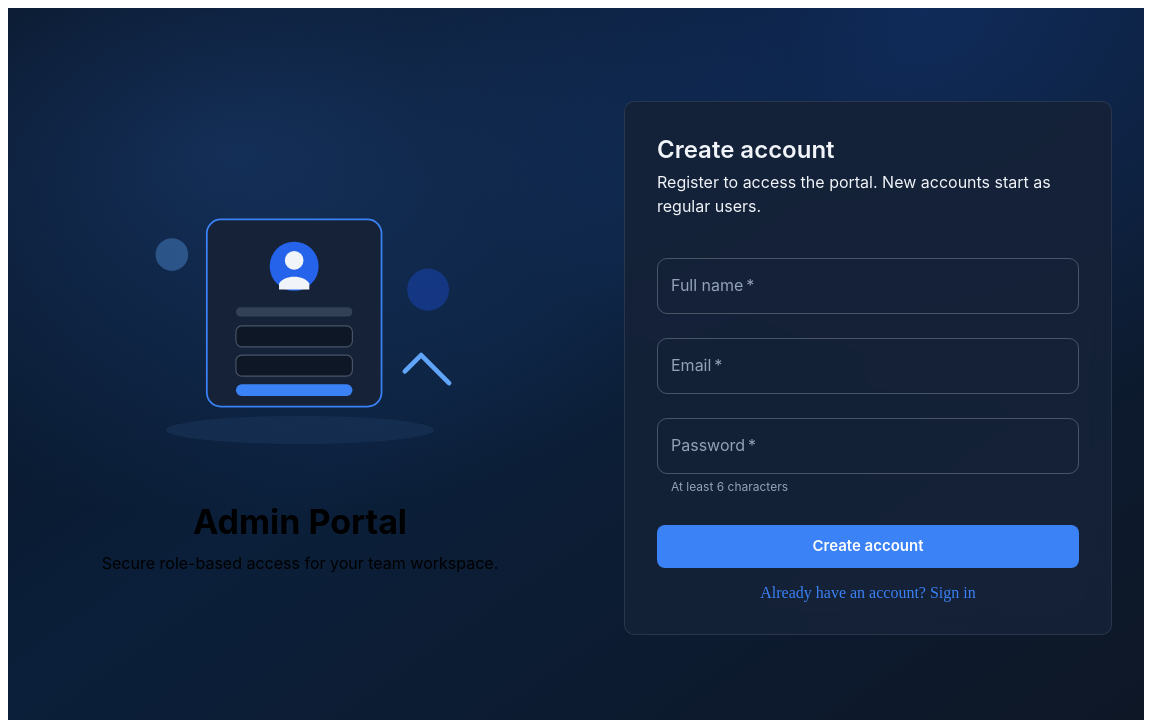
Test: RegisterPage › requires a password of at least 6 characters
Type "Ada Lovelace" into the field labelled "Full name *" at (868, 286), box [657,258,1079,314]
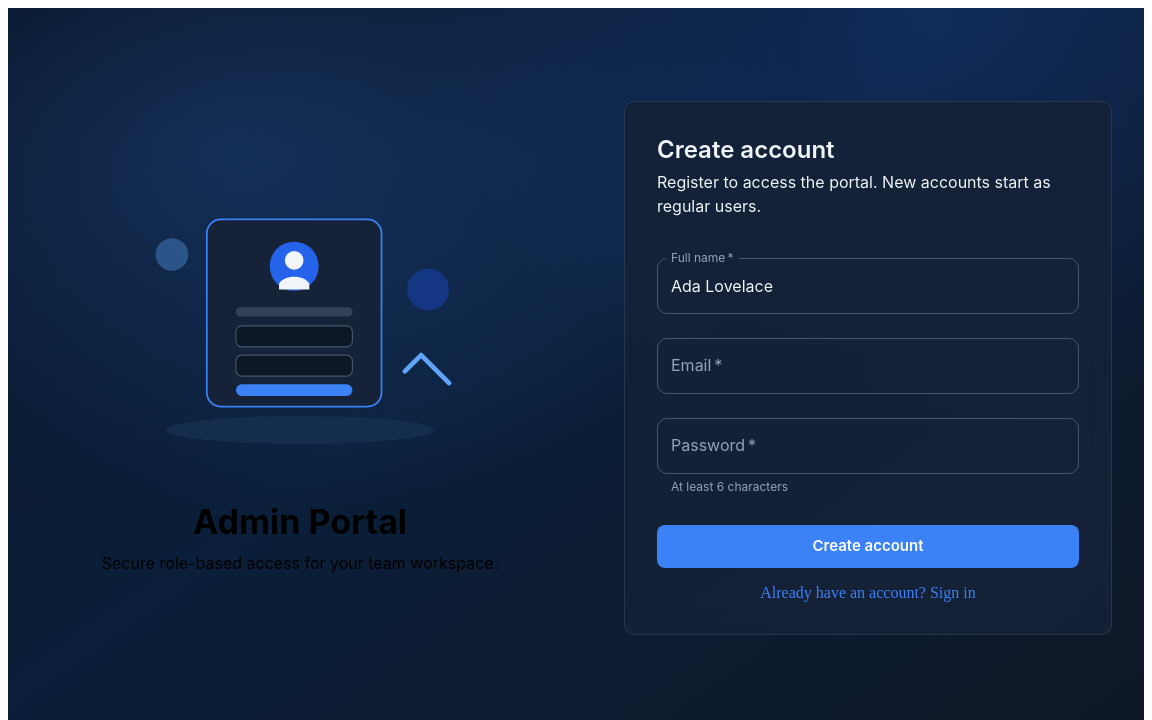
Type "ada@example.com" into the field labelled "Email *" at (868, 366), box [657,338,1079,394]
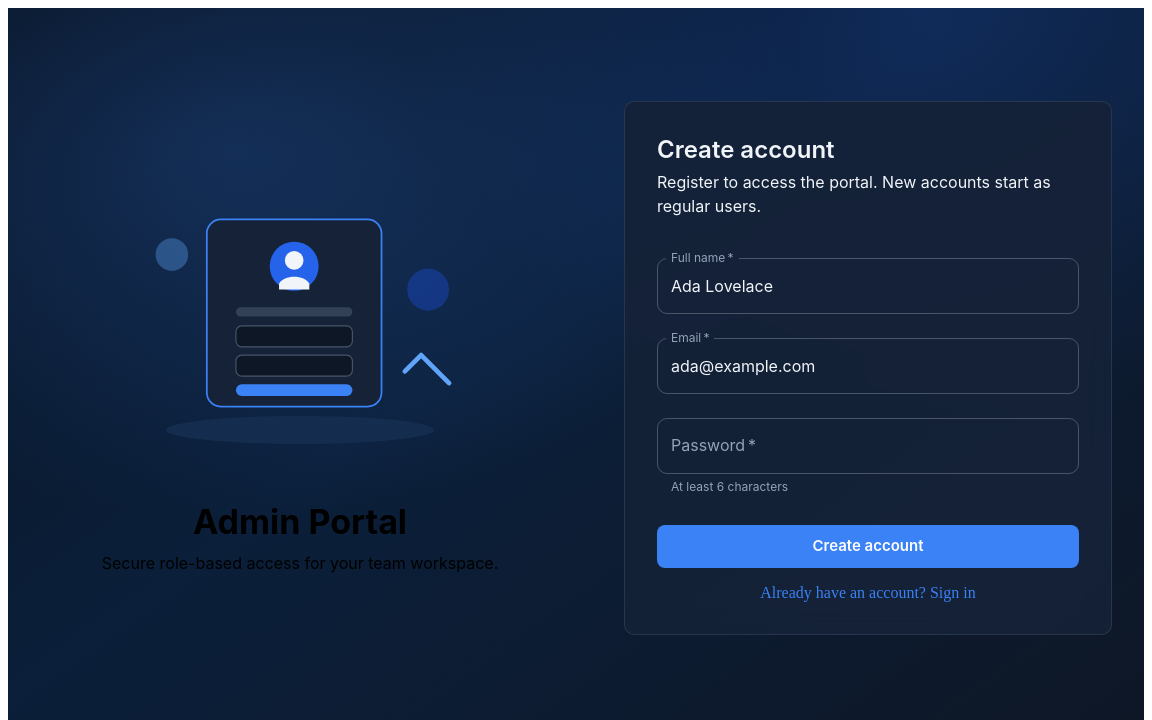
Type "123" into the password field labelled "Password *" at (868, 446), box [657,418,1079,474]
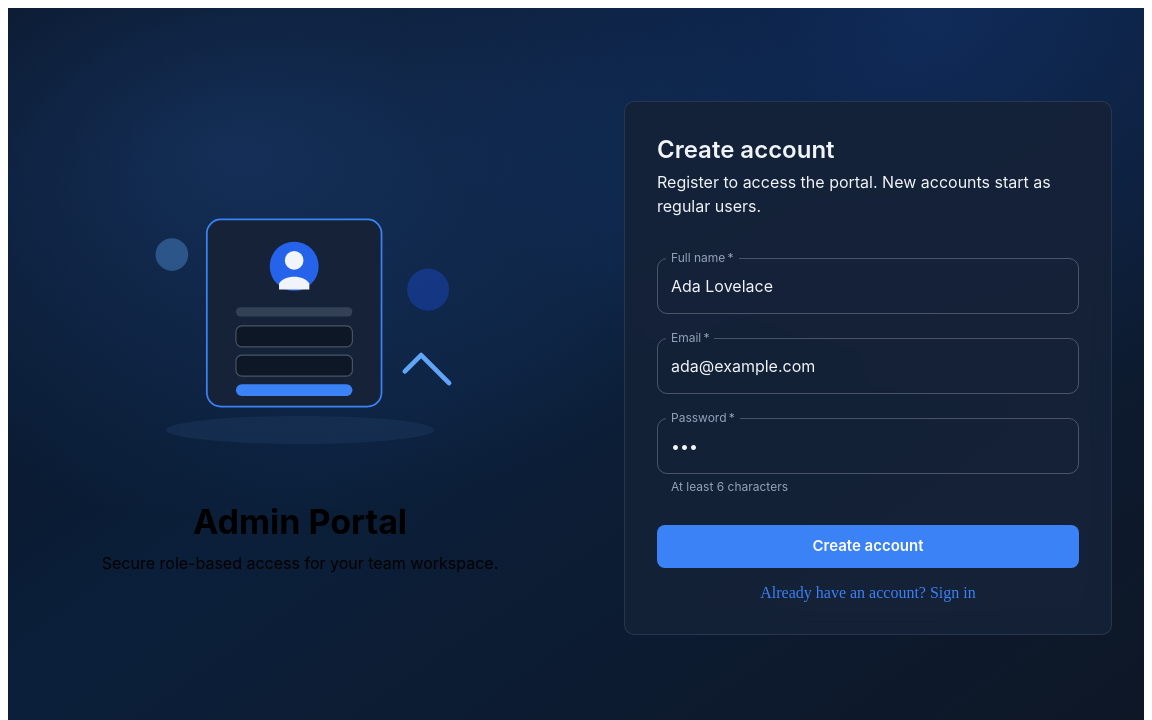
Click the button "Create account" at (868, 546), box [657,525,1079,568]
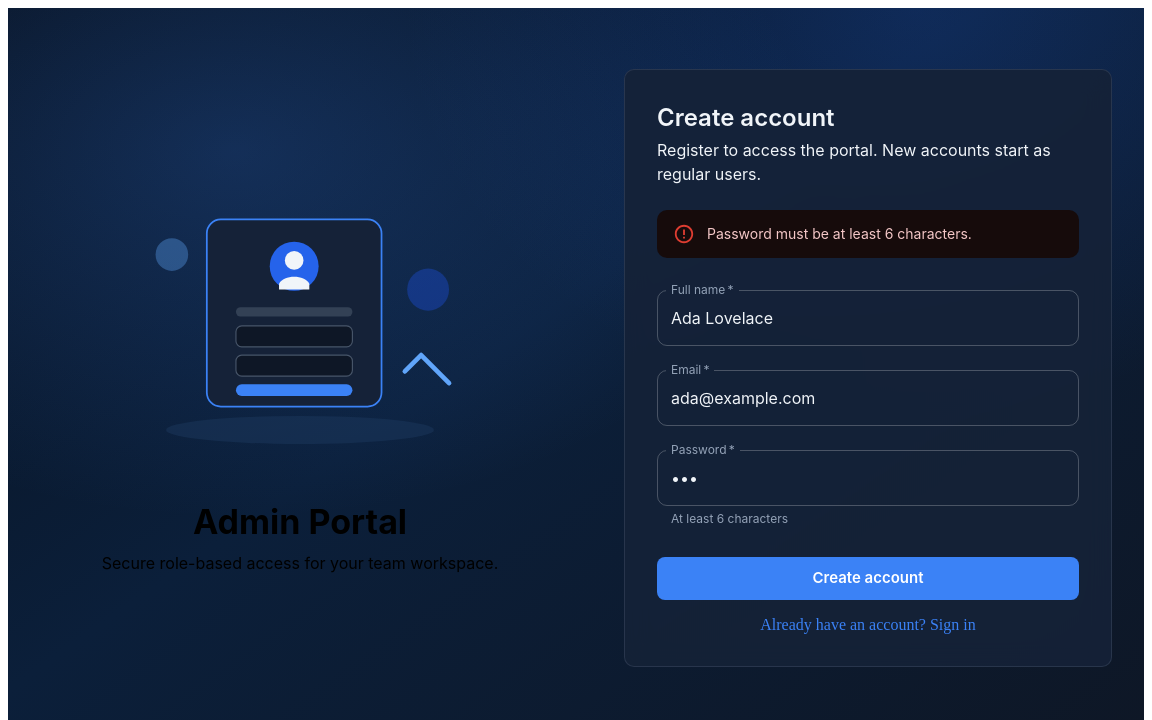
Check: the text "Password must be at least 6 characters." is shown, box [707,225,972,242]
